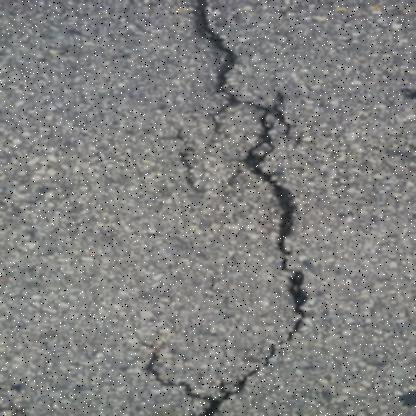Cracks: (141, 0, 326, 415)
